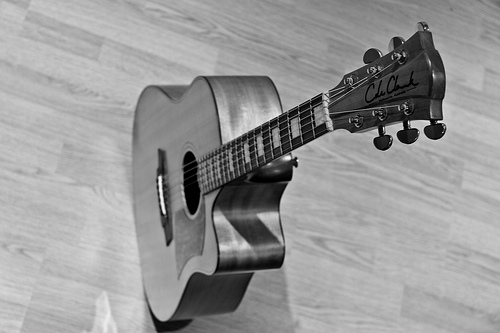guitar: (126, 20, 447, 325)
